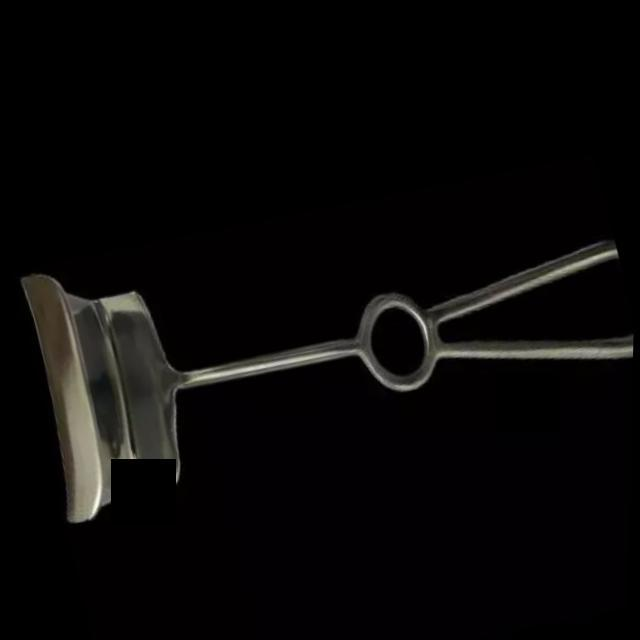Morris Retractor: (0, 115, 638, 570)
